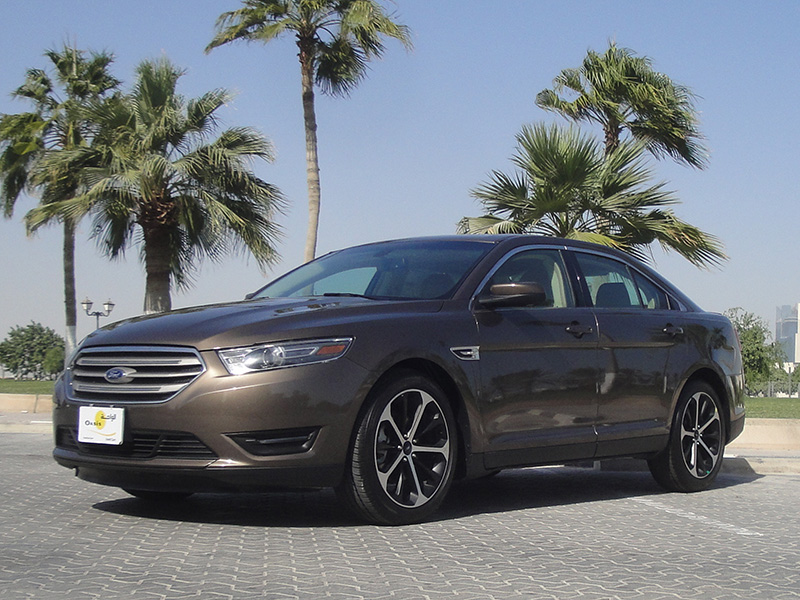other: (61, 235, 744, 511)
